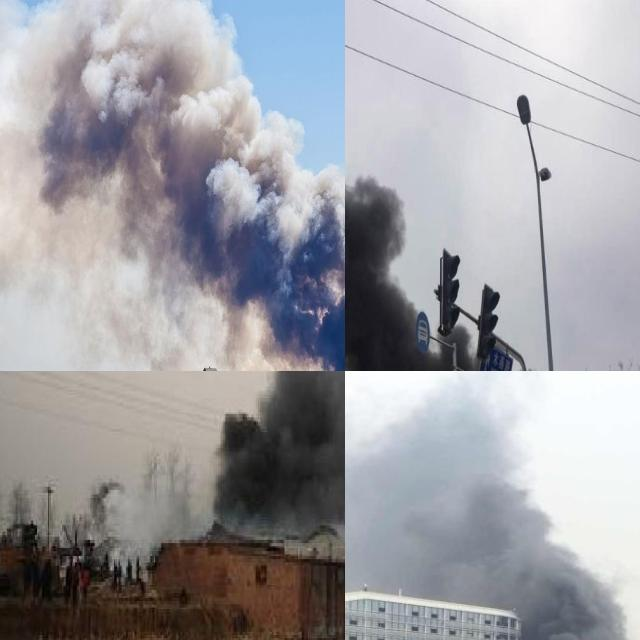smoke: (0, 0, 345, 371), (345, 371, 640, 640), (345, 0, 534, 371), (98, 371, 345, 543)
